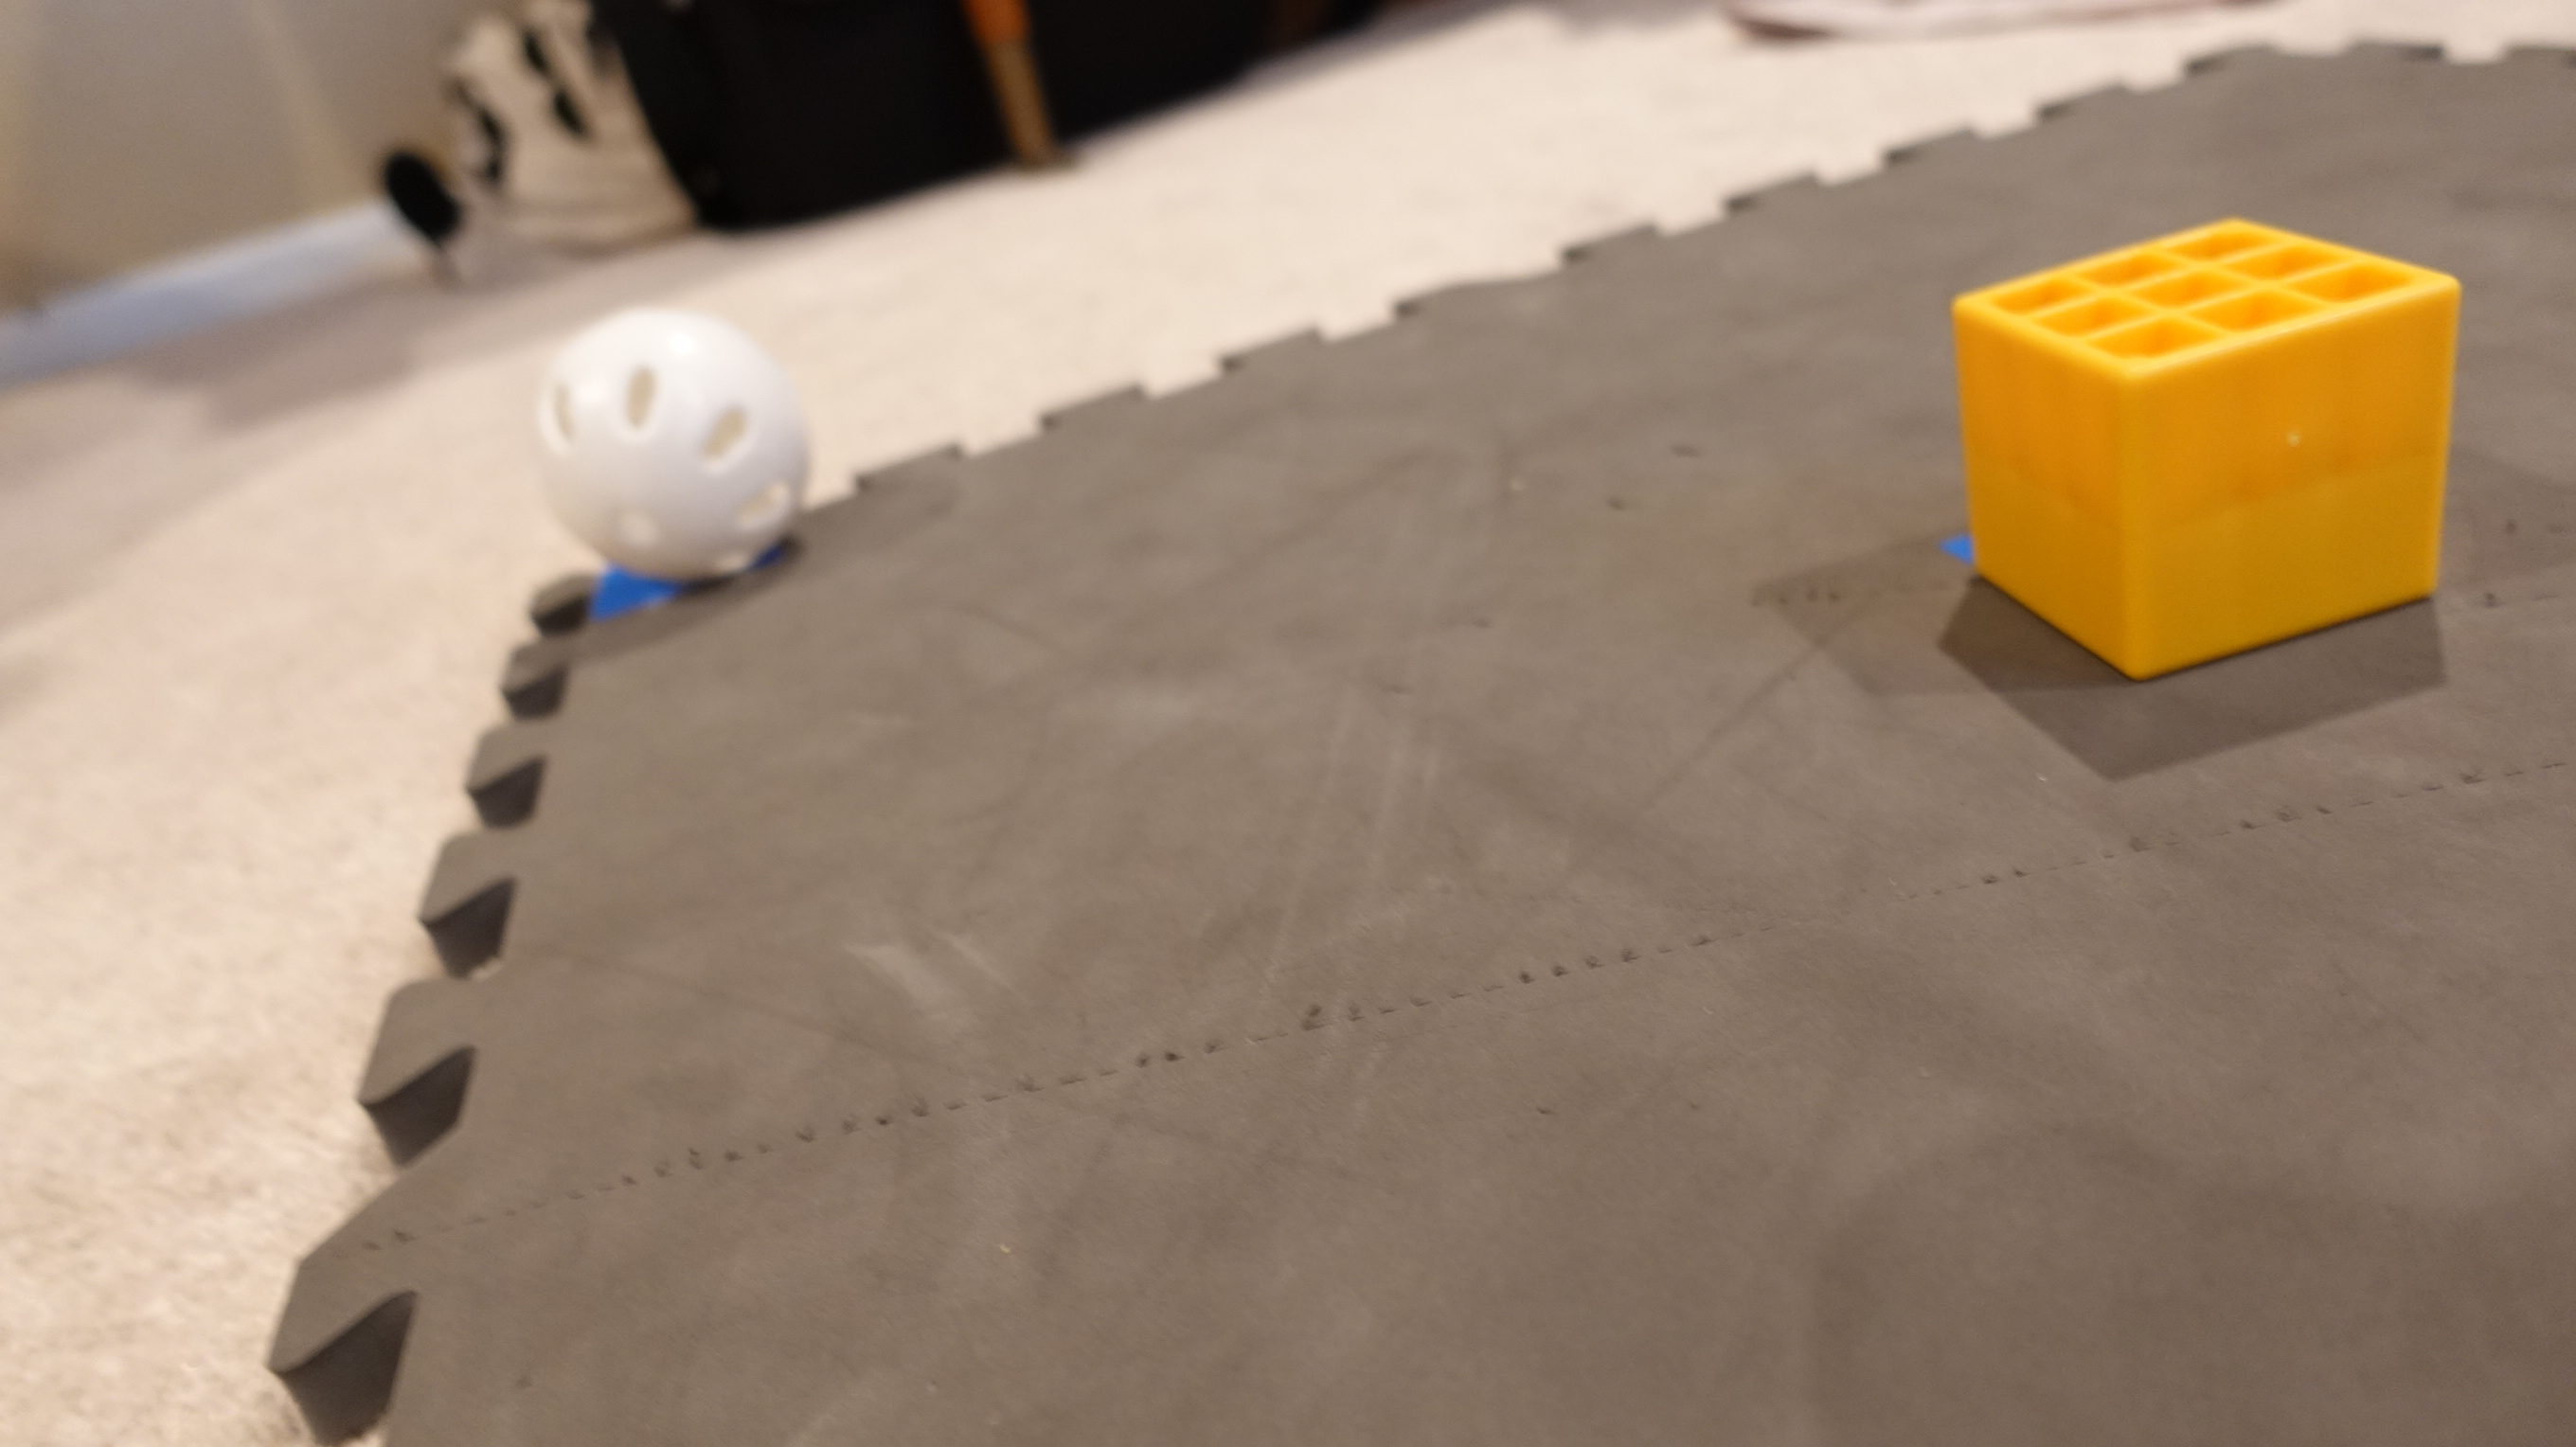gold: (1939, 212, 2459, 676)
silver: (533, 310, 821, 582)
